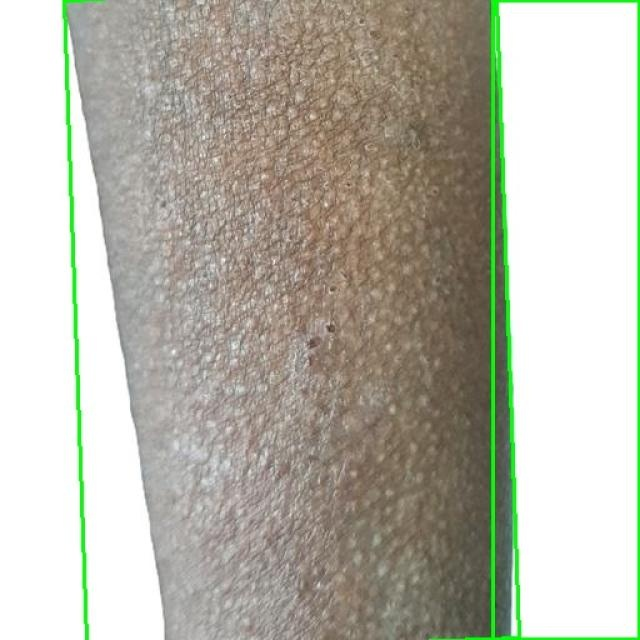Contact Dermatitis: (65, 0, 519, 640), (492, 0, 639, 639)
